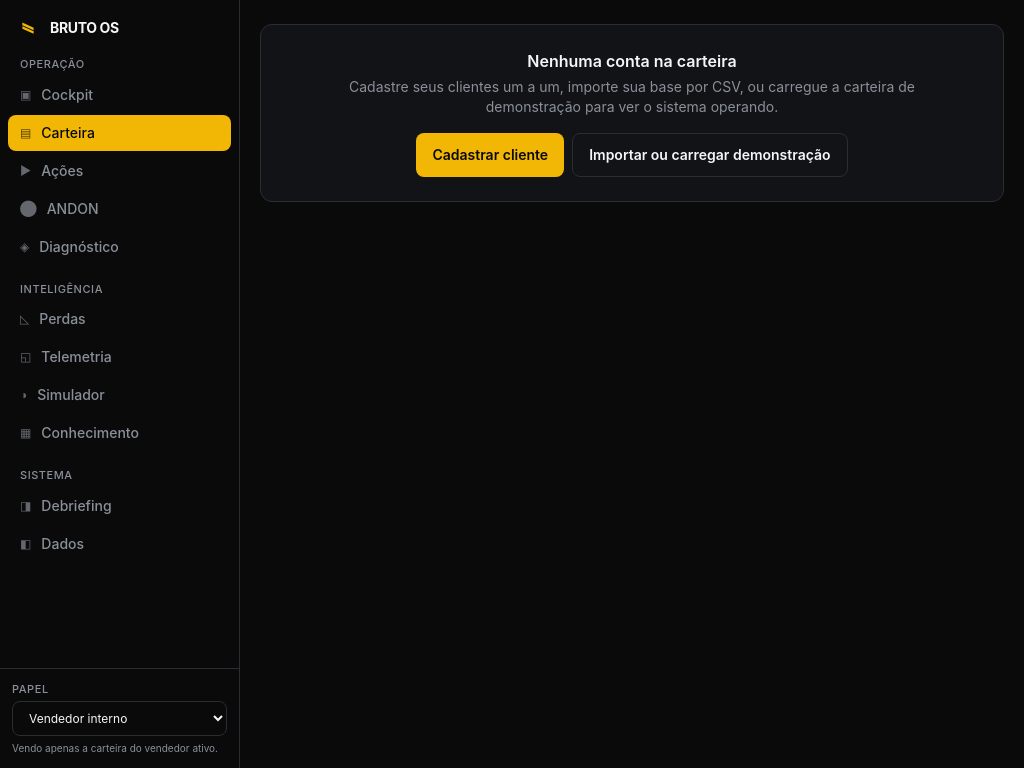
it: cadastro manual, sem CSV e sem demonstração › exige apenas o nome — o resto vira lacuna, não valor inventado
This screenshot has width=1024, height=768.
Expected: the text "Nenhuma conta na carteira" is shown, [527,51,737,71]
Click the button "Cadastrar cliente" at (490, 155), box [416,133,564,177]
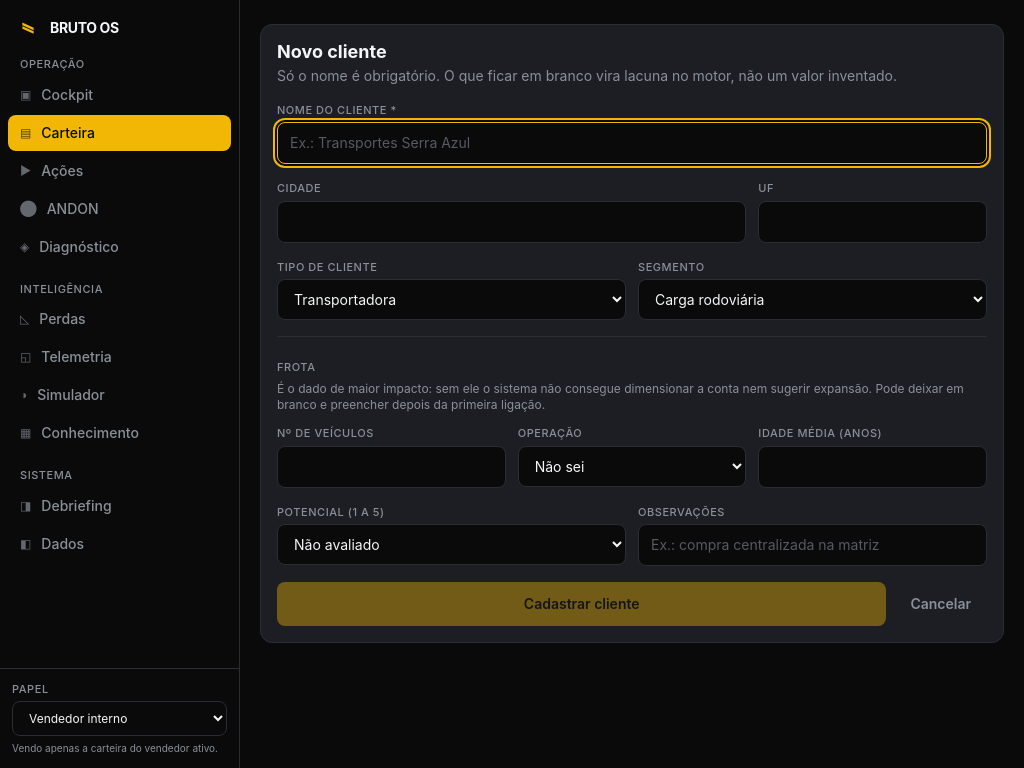
Now the heading "Novo cliente" is shown, box [277,41,387,62]
Now the button "Cadastrar cliente" is disabled, box [277,582,886,626]
Type "Transportes Teste" into the field labelled "Nome do cliente *" at (632, 143), box [277,122,987,164]
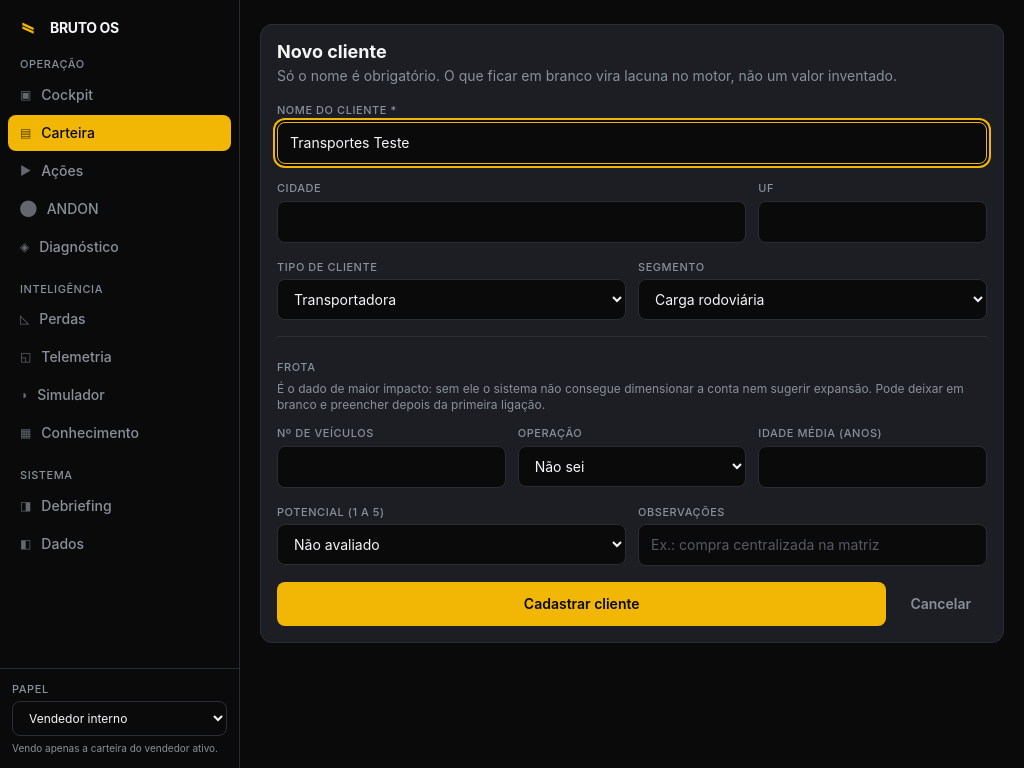
Now the button "Cadastrar cliente" is enabled, box [277,582,886,626]
